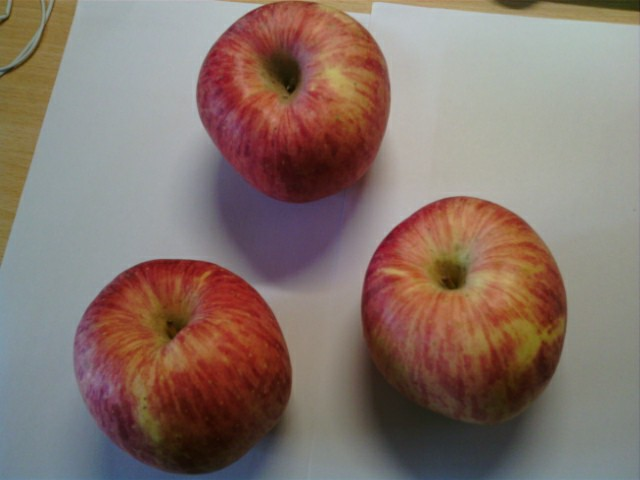normal_apple: (76, 257, 295, 479), (362, 196, 568, 422), (195, 2, 391, 203)
